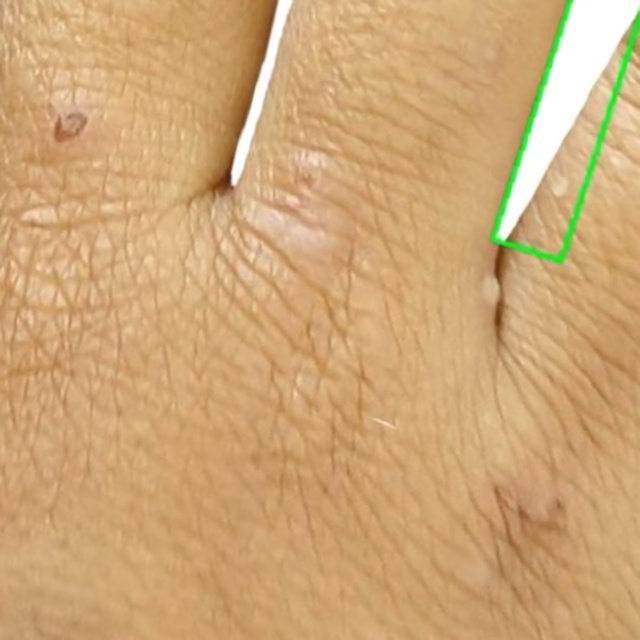Scabies: (492, 0, 639, 262)
